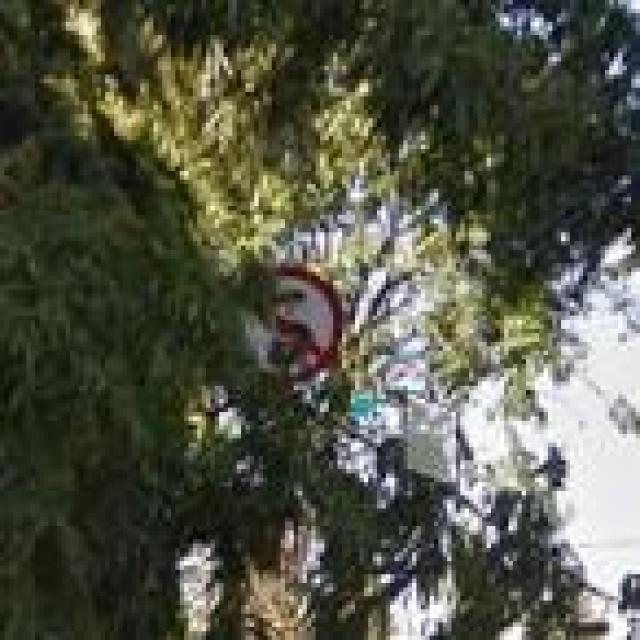traffic sign: (254, 267, 342, 386)
